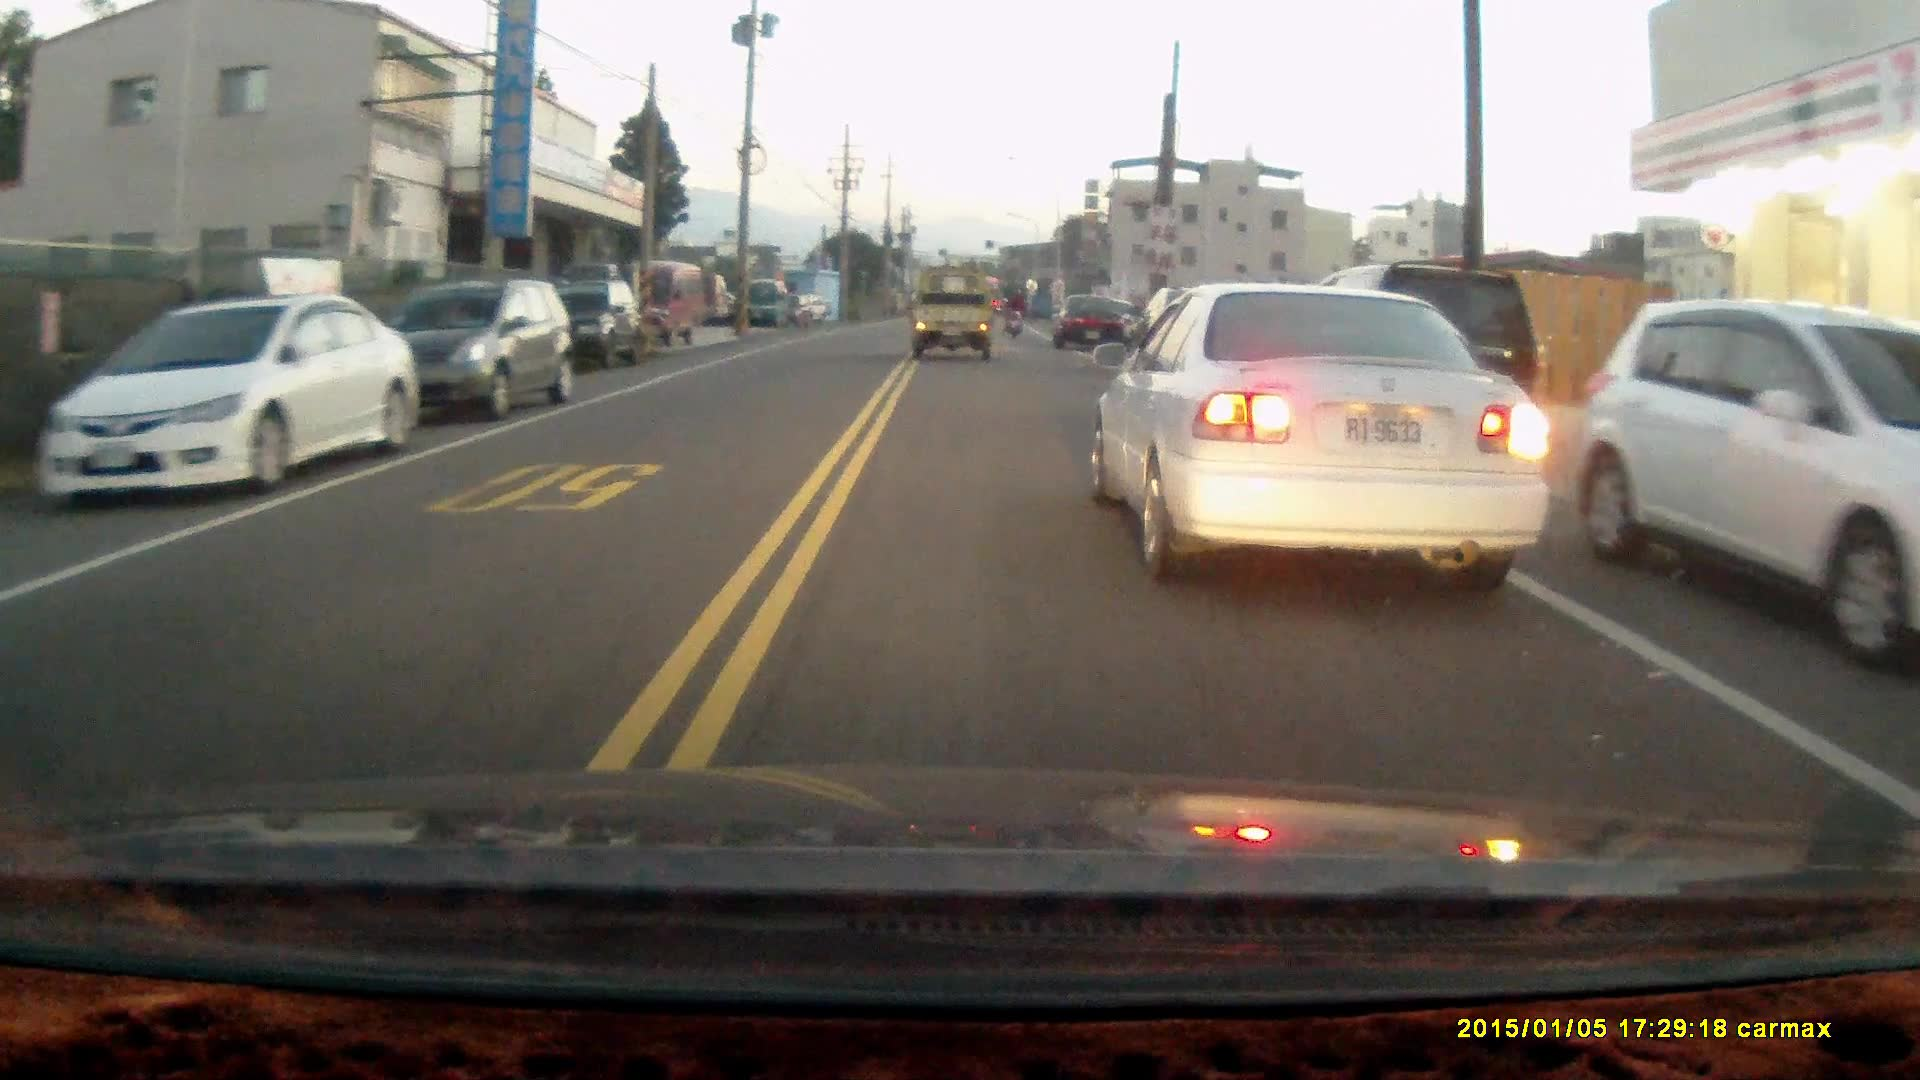rider: (1002, 284, 1029, 332)
vehicle: (1084, 277, 1546, 577), (1578, 299, 1920, 672), (39, 288, 423, 503), (1311, 263, 1542, 481), (356, 273, 573, 417), (908, 263, 999, 365), (614, 259, 719, 345), (554, 281, 644, 371), (1055, 291, 1135, 350)
